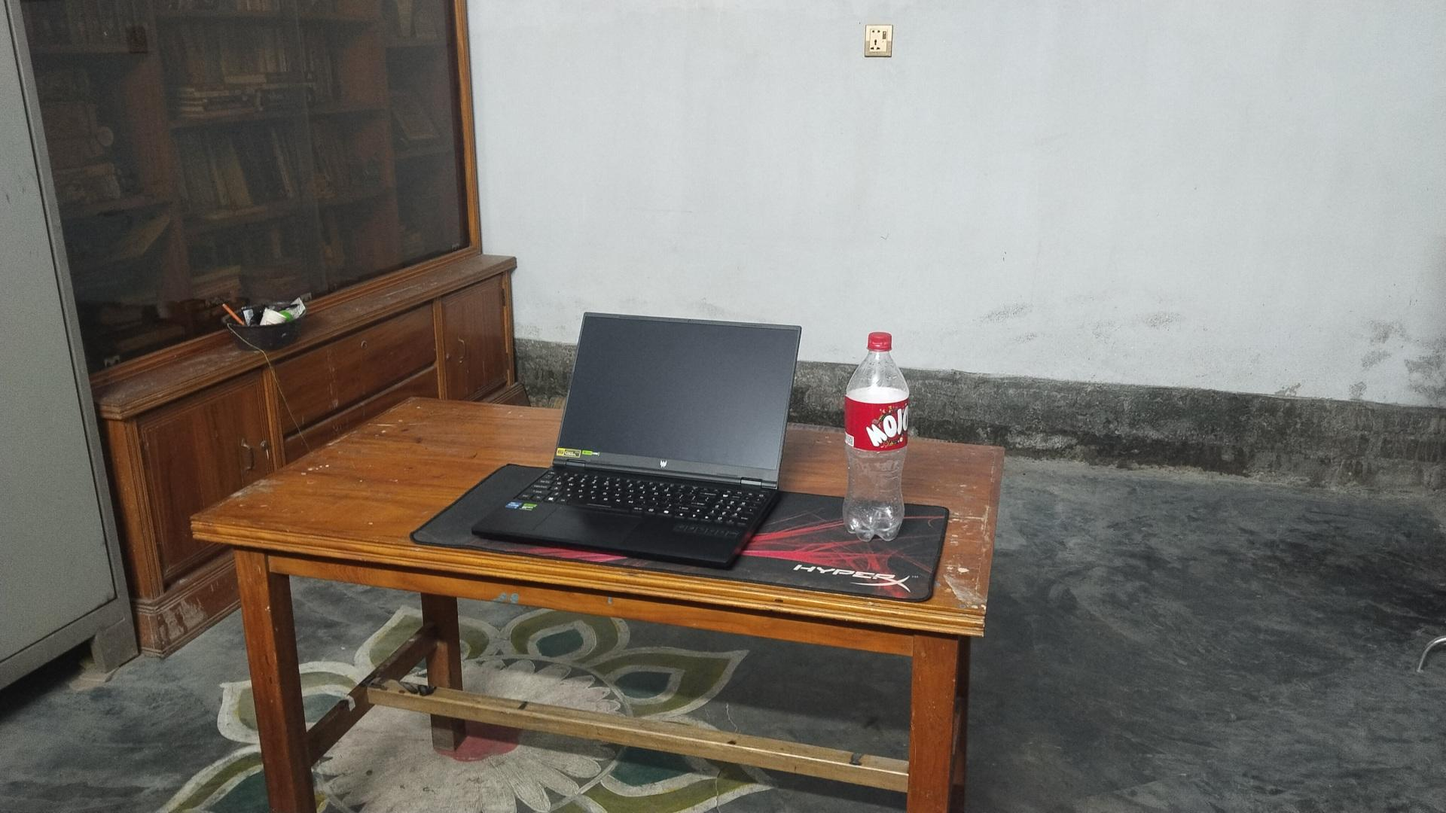Bottle: (838, 330, 918, 542)
Laptop: (472, 307, 804, 569)
Table: (195, 381, 1001, 813)
